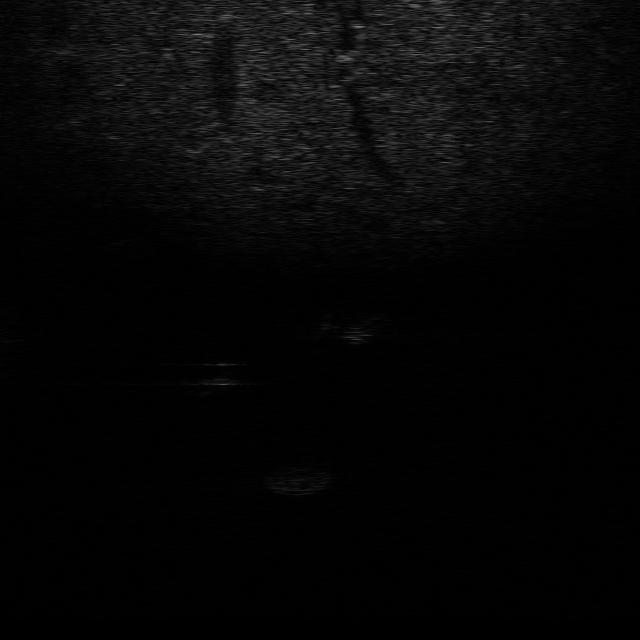ball: (188, 357, 254, 389)
circle cage: (255, 462, 335, 498)
human body: (310, 308, 390, 348)
